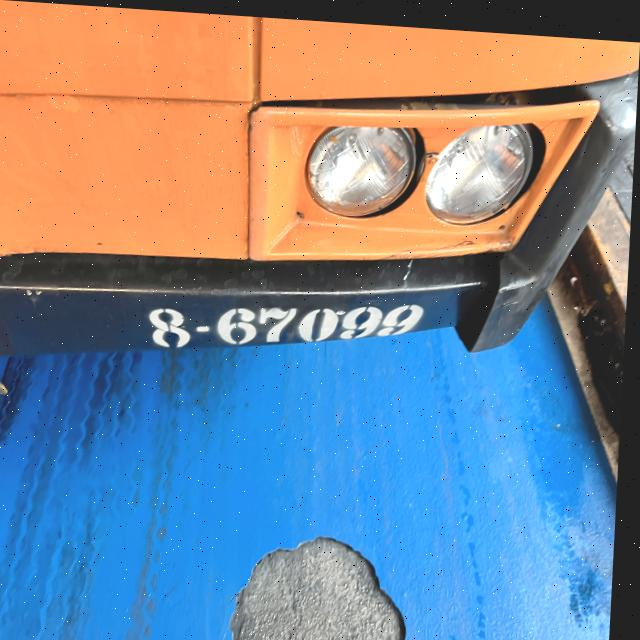BMTA-bus: (0, 0, 640, 393)
